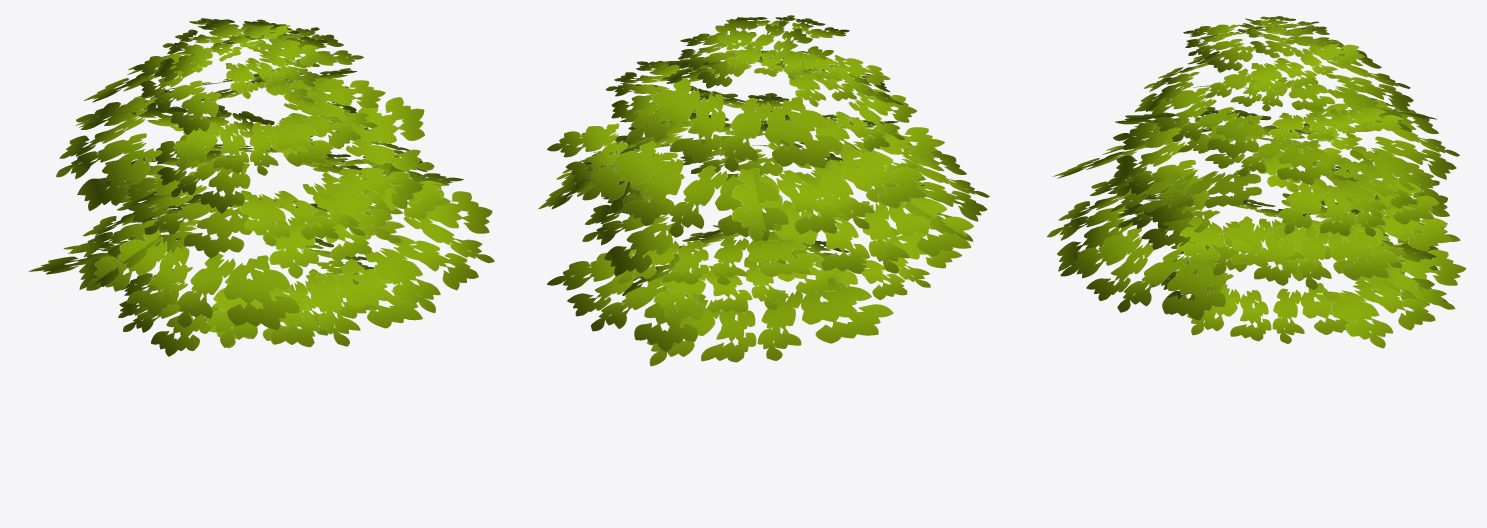
Rendered from newtree.fbx.
3 renders of one model, left to right at view 1: azimuth 30°, elevation 25°; view 2: azimuth 150°, elevation 25°; view 3: azimuth 270°, elevation 25°, orthographic. The views are drawn at different scales.
Visible parts, largest first — view 1: foliage:tree3.002; view 2: foliage:tree3.002; view 3: foliage:tree3.002.
Part boxes in pixels (x1,y1,x2,y2): foliage:tree3.002: (28, 18, 494, 356); foliage:tree3.002: (538, 15, 989, 366); foliage:tree3.002: (1047, 16, 1466, 348).
Size of the model in its own units: 67.42 by 74 by 63.51.
